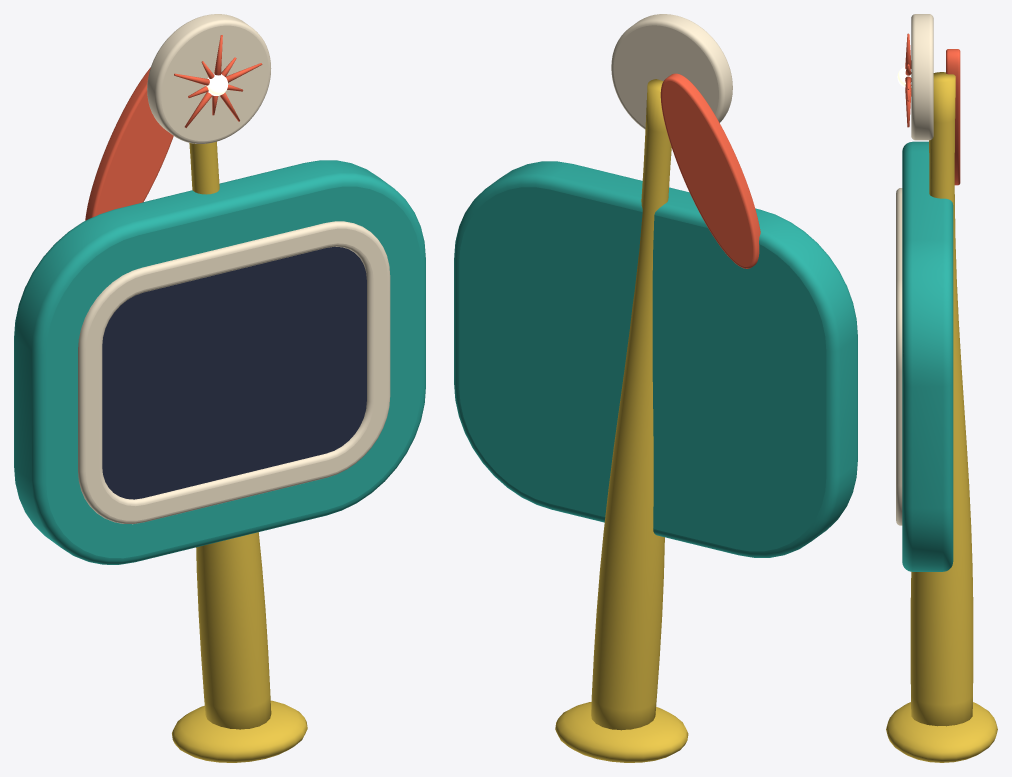
Rendered from BB_TOTEM_1.glb.
3 renders of one model, left to right at view 1: azimuth 30°, elevation 25°; view 2: azimuth 150°, elevation 25°; view 3: azimuth 270°, elevation 25°, orthographic. The views are drawn at different scales.
Visible parts, largest first — view 1: BB_TOTEM_1_body, BB_TOTEM_1_FACE, BB_TOTEM_1_frame, BB_TOTEM_1_pylon, BB_TOTEM_1_disc, BB_TOTEM_1_fin, BB_TOTEM_1_foot; view 2: BB_TOTEM_1_body, BB_TOTEM_1_pylon, BB_TOTEM_1_fin, BB_TOTEM_1_disc, BB_TOTEM_1_foot; view 3: BB_TOTEM_1_body, BB_TOTEM_1_pylon, BB_TOTEM_1_foot, BB_TOTEM_1_disc, BB_TOTEM_1_frame, BB_TOTEM_1_fin.
Boxes of the visible parts, x1,y1,x2,y2 form: BB_TOTEM_1_body: [14, 160, 425, 564]; BB_TOTEM_1_FACE: [102, 246, 366, 499]; BB_TOTEM_1_frame: [78, 221, 390, 524]; BB_TOTEM_1_pylon: [189, 141, 271, 729]; BB_TOTEM_1_disc: [147, 14, 271, 143]; BB_TOTEM_1_fin: [85, 67, 173, 220]; BB_TOTEM_1_foot: [172, 700, 307, 762]; BB_TOTEM_1_body: [454, 161, 857, 557]; BB_TOTEM_1_pylon: [591, 79, 671, 730]; BB_TOTEM_1_fin: [660, 73, 760, 268]; BB_TOTEM_1_disc: [611, 14, 732, 129]; BB_TOTEM_1_foot: [555, 702, 688, 762]; BB_TOTEM_1_body: [902, 141, 953, 571]; BB_TOTEM_1_pylon: [910, 72, 973, 726]; BB_TOTEM_1_foot: [886, 702, 997, 762]; BB_TOTEM_1_disc: [911, 14, 933, 140]; BB_TOTEM_1_frame: [896, 188, 902, 525]; BB_TOTEM_1_fin: [946, 49, 960, 185].
Size of the model in its own units: 7.67 by 13.97 by 2.
